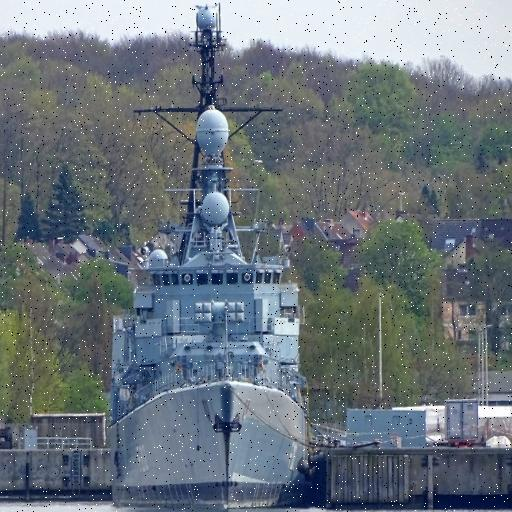Fragata: (109, 1, 312, 512)
